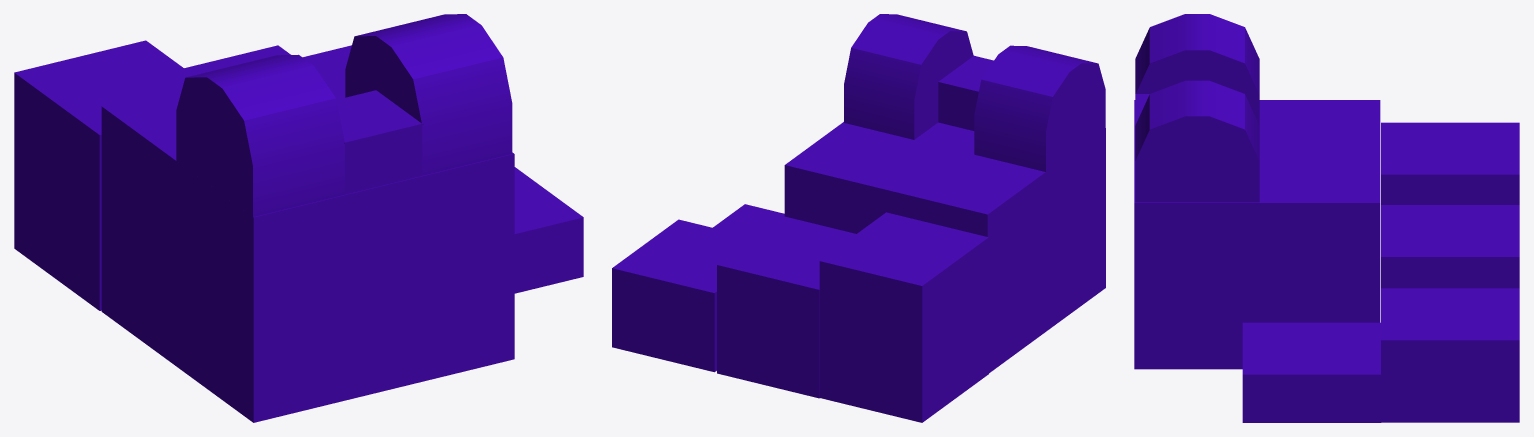
Rendered from SafeZone4.fbx.
The picture shows the model from 3 angles, left to right: view 1: azimuth 30°, elevation 25°; view 2: azimuth 150°, elevation 25°; view 3: azimuth 270°, elevation 25°; orthographic projection. The views are drawn at different scales.
Parts seen in each view (by area): view 1: polySurface5, polySurface3, polySurface7, polySurface6, polySurface8, polySurface1, polySurface4; view 2: polySurface5, polySurface3, polySurface4, polySurface2, polySurface7, polySurface6, polySurface8, polySurface1; view 3: polySurface5, polySurface2, polySurface1, polySurface6, polySurface4, polySurface3, polySurface7.
Boxes of the visible parts, <box> form: polySurface5: <box>101,45,514,422</box>; polySurface3: <box>14,40,193,310</box>; polySurface7: <box>176,54,344,216</box>; polySurface6: <box>345,14,512,175</box>; polySurface8: <box>336,90,423,194</box>; polySurface1: <box>514,167,583,293</box>; polySurface4: <box>184,45,290,75</box>; polySurface5: <box>784,122,1105,373</box>; polySurface3: <box>819,212,988,422</box>; polySurface4: <box>717,216,855,398</box>; polySurface2: <box>612,219,753,372</box>; polySurface7: <box>974,45,1105,171</box>; polySurface6: <box>844,14,973,139</box>; polySurface8: <box>938,55,993,130</box>; polySurface1: <box>713,204,784,237</box>; polySurface5: <box>1134,100,1380,369</box>; polySurface2: <box>1381,288,1519,422</box>; polySurface1: <box>1242,322,1381,422</box>; polySurface6: <box>1135,80,1259,202</box>; polySurface4: <box>1381,205,1519,288</box>; polySurface3: <box>1381,122,1519,204</box>; polySurface7: <box>1135,14,1259,125</box>.
Size of the model in its own units: 2.92 by 2.18 by 3.01.
